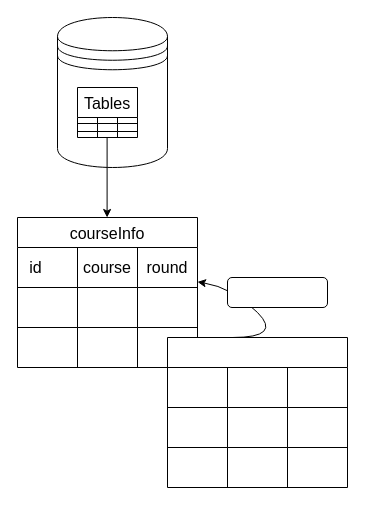
This 365x505 diagram has some shape labels left out. The box of each missing label's shape, as (x1, y1, x2, y2) in pixels:
agapsTable: (166, 336, 348, 488)
concat tables: (226, 276, 328, 308)
